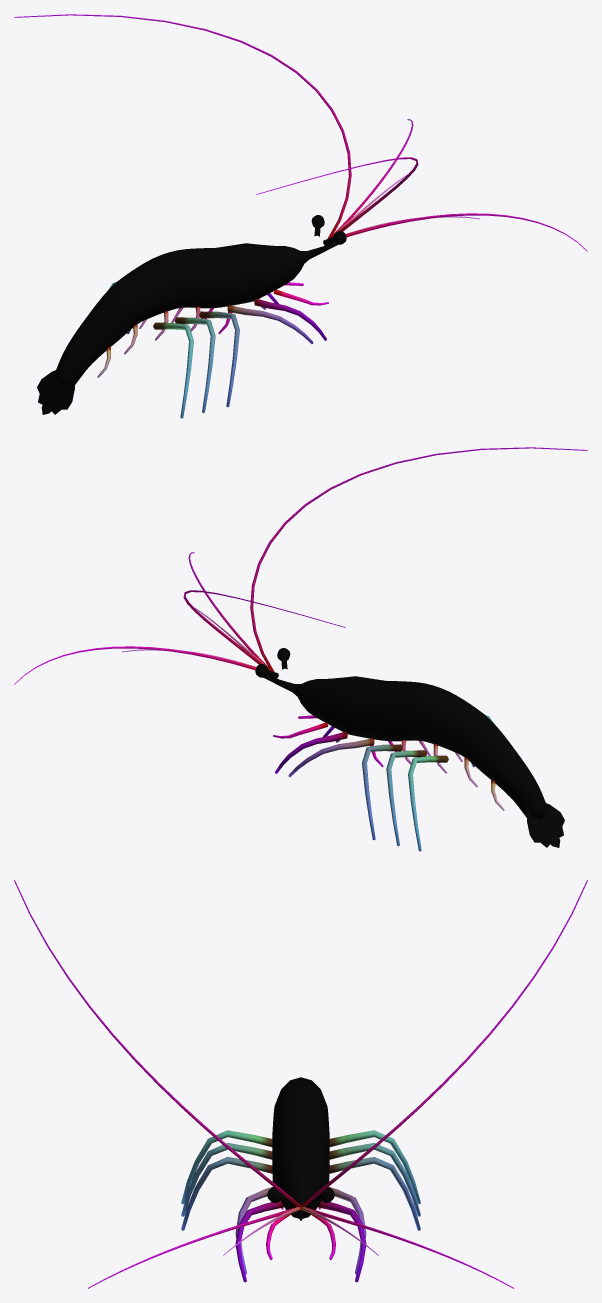
Rendered from fire_shrimp.glb.
3 renders of one model, top to bottom at view 1: azimuth 30°, elevation 25°; view 2: azimuth 150°, elevation 25°; view 3: azimuth 270°, elevation 25°, orthographic. The views are drawn at different scales.
Parts seen in each view (by area): view 1: Body, Legs, Antennae; view 2: Body, Legs, Antennae; view 3: Legs, Body, Antennae.
Boxes of the visible parts, x1=… form: Body: x1=37, y1=242, x2=338, y2=414; Legs: x1=97, y1=282, x2=328, y2=418; Antennae: x1=14, y1=14, x2=587, y2=251; Body: x1=263, y1=675, x2=564, y2=847; Legs: x1=273, y1=715, x2=504, y2=851; Antennae: x1=14, y1=447, x2=587, y2=684; Legs: x1=181, y1=1130, x2=420, y2=1282; Body: x1=272, y1=1077, x2=329, y2=1220; Antennae: x1=14, y1=880, x2=587, y2=1288.
Bounding box in the file's own units: 1.46 × 0.8811 × 1.35.
2 materials, 1 textured.
